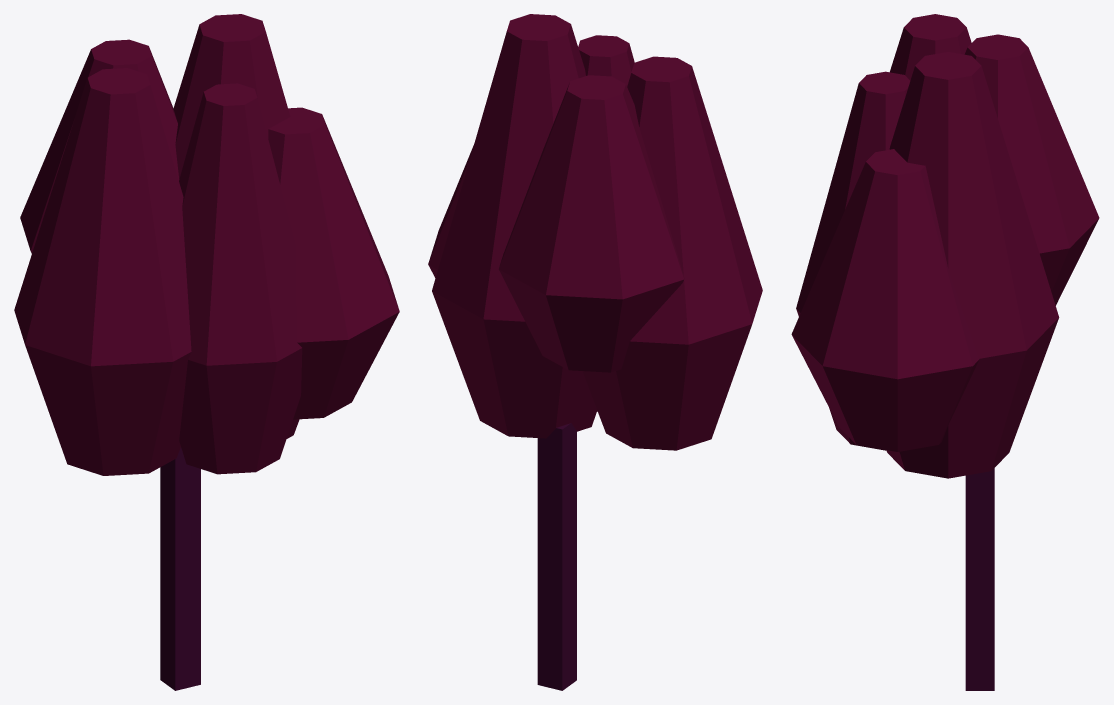
Rendered from tree_b.glb.
The picture shows the model from 3 angles, left to right: view 1: azimuth 30°, elevation 25°; view 2: azimuth 150°, elevation 25°; view 3: azimuth 270°, elevation 25°; orthographic projection. The views are drawn at different scales.
Visible parts, largest first — view 1: tree_b; view 2: tree_b; view 3: tree_b.
Part boxes in pixels (<box>): tree_b: <box>14,14,399,690</box>; tree_b: <box>428,14,762,690</box>; tree_b: <box>791,14,1099,690</box>.
Bounding box in the file's own units: 4.66 × 8.5 × 3.73.
